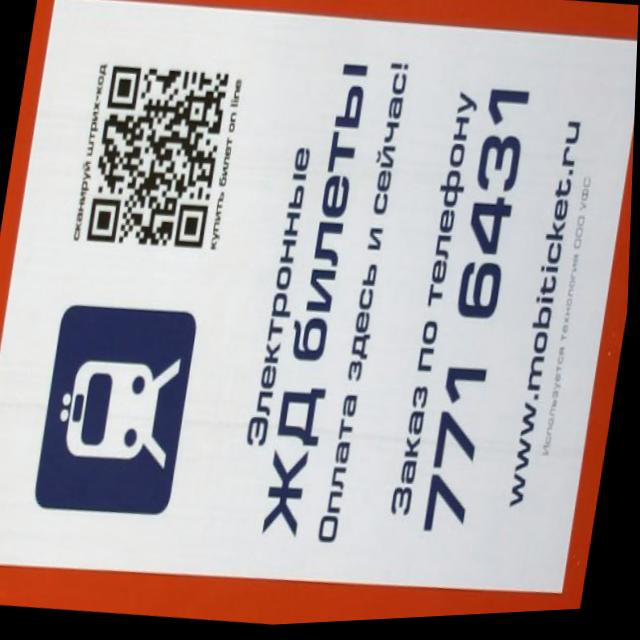qrcode: (88, 63, 229, 256)
